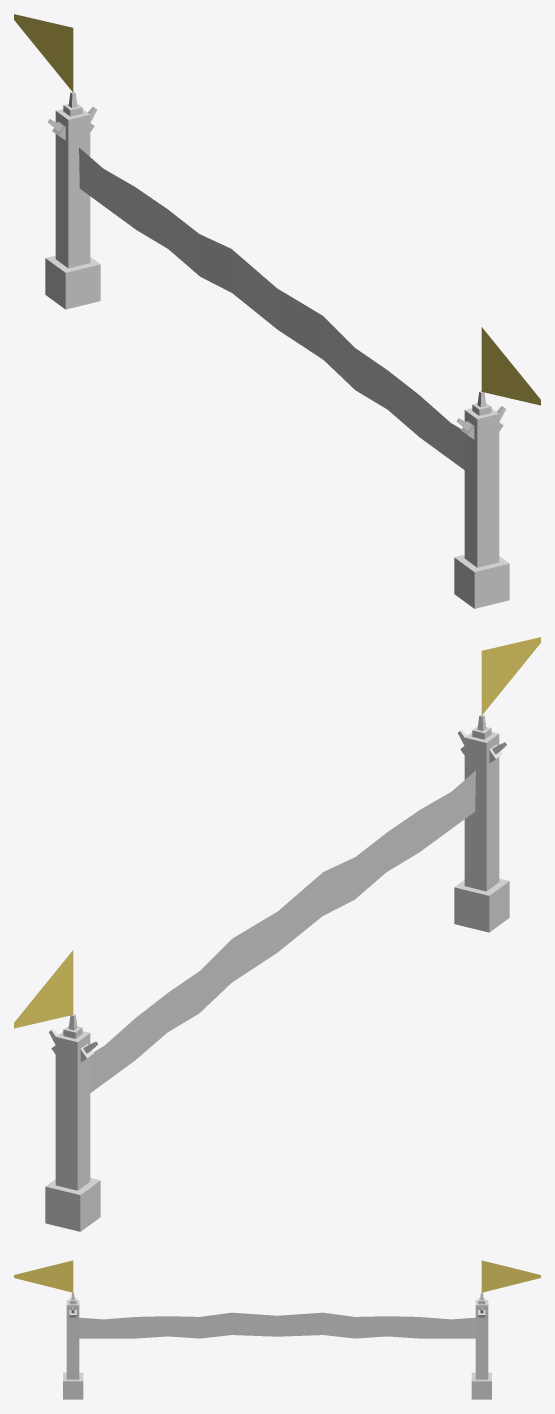
Rendered from Checkpoint.fbx.
3 renders of one model, top to bottom at view 1: azimuth 30°, elevation 25°; view 2: azimuth 150°, elevation 25°; view 3: azimuth 270°, elevation 25°, orthographic. The views are drawn at different scales.
Visible parts, largest first — view 1: Cube.001, Plane; view 2: Cube.001, Plane; view 3: Plane, Cube.001.
Boxes of the visible parts, x1=… form: Cube.001: x1=14, y1=14, x2=540, y2=608; Plane: x1=79, y1=147, x2=464, y2=469; Cube.001: x1=14, y1=637, x2=540, y2=1231; Plane: x1=90, y1=770, x2=475, y2=1092; Plane: x1=79, y1=1312, x2=475, y2=1338; Cube.001: x1=14, y1=1260, x2=540, y2=1399.
Size of the model in its own units: 108 by 581 by 2054.
